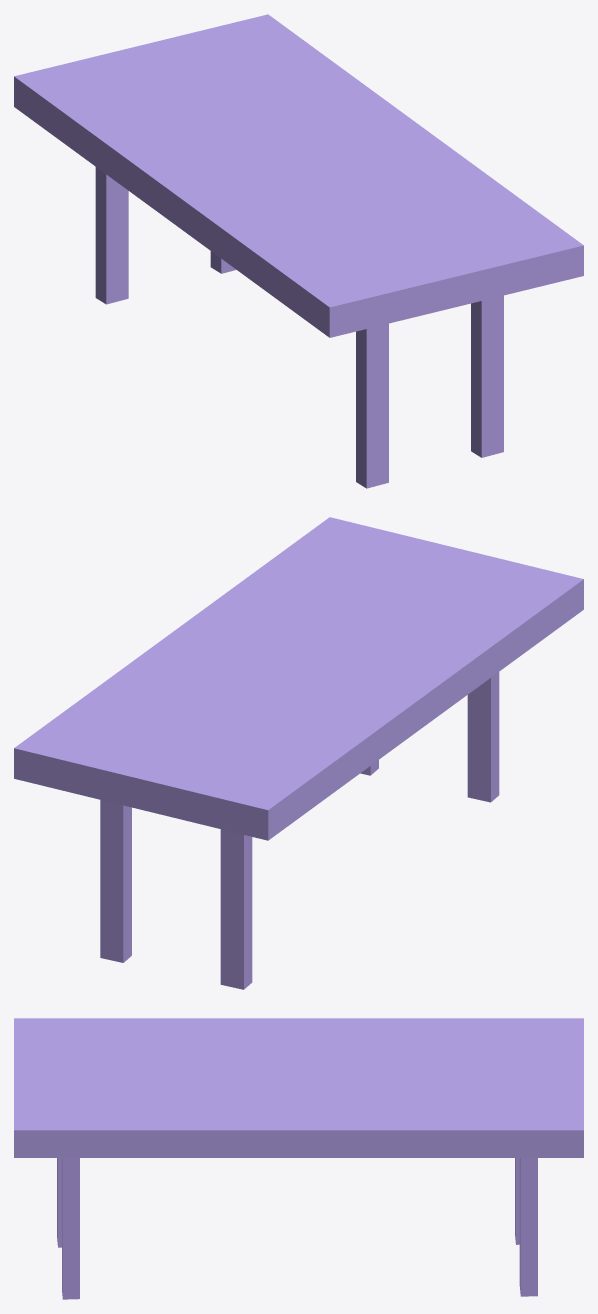
3 views of the same model, one above another, from view 1: azimuth 30°, elevation 25°; view 2: azimuth 150°, elevation 25°; view 3: azimuth 270°, elevation 25° (orthographic). The views are drawn at different scales.
Visible parts, largest first — view 1: Oj5_3; view 2: Oj5_3; view 3: Oj5_3.
Part boxes in pixels (x1,y1,x2,y2): Oj5_3: (14, 14, 583, 488); Oj5_3: (14, 517, 583, 989); Oj5_3: (14, 1018, 583, 1299).
Bounding box in the file's own units: 1 × 0.8025 × 2.15.
1 material, 1 textured.
